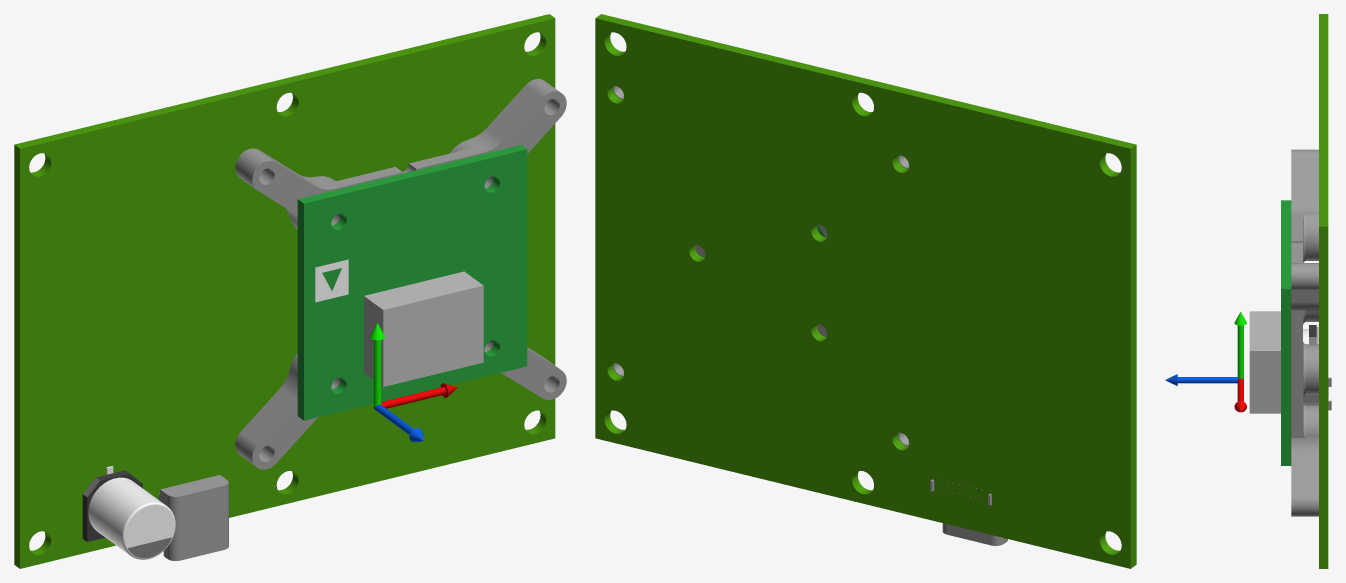
The model's file is IMU_Platform_1647X.obj.
3 views of the same model, side by side, from view 1: azimuth 30°, elevation 25°; view 2: azimuth 150°, elevation 25°; view 3: azimuth 270°, elevation 25° (orthographic). The views are drawn at different scales.
Visible parts, largest first — view 1: ボディ1:2, ボディ1:4, ボディ1:3, ボディ1:5, ボディ1:1, ボディ1, ボディ1:6; view 2: ボディ1:2, ボディ1, ボディ1:3; view 3: ボディ1:3, ボディ1:2, ボディ1:5, ボディ1:4, ボディ1:6, ボディ1:1.
Part boxes in pixels (x1=…): ボディ1:2: x1=14, y1=14, x2=555, y2=568; ボディ1:4: x1=297, y1=145, x2=527, y2=420; ボディ1:3: x1=235, y1=79, x2=566, y2=469; ボディ1:5: x1=364, y1=271, x2=483, y2=386; ボディ1:1: x1=82, y1=466, x2=175, y2=559; ボディ1: x1=158, y1=475, x2=228, y2=560; ボディ1:6: x1=370, y1=323, x2=457, y2=442; ボディ1:2: x1=595, y1=14, x2=1136, y2=568; ボディ1: x1=930, y1=479, x2=1007, y2=545; ボディ1:3: x1=613, y1=85, x2=909, y2=445; ボディ1:3: x1=1291, y1=149, x2=1318, y2=516; ボディ1:2: x1=1319, y1=14, x2=1328, y2=568; ボディ1:5: x1=1249, y1=311, x2=1280, y2=413; ボディ1:4: x1=1281, y1=200, x2=1291, y2=465; ボディ1:6: x1=1165, y1=312, x2=1246, y2=412; ボディ1:1: x1=1303, y1=324, x2=1318, y2=344.
Bounding box in the file's own units: 8 × 6.25 × 2.65.
